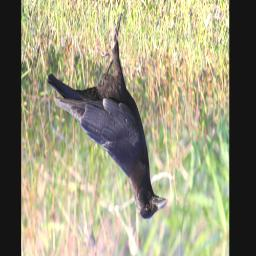Crow: (46, 6, 169, 222)
